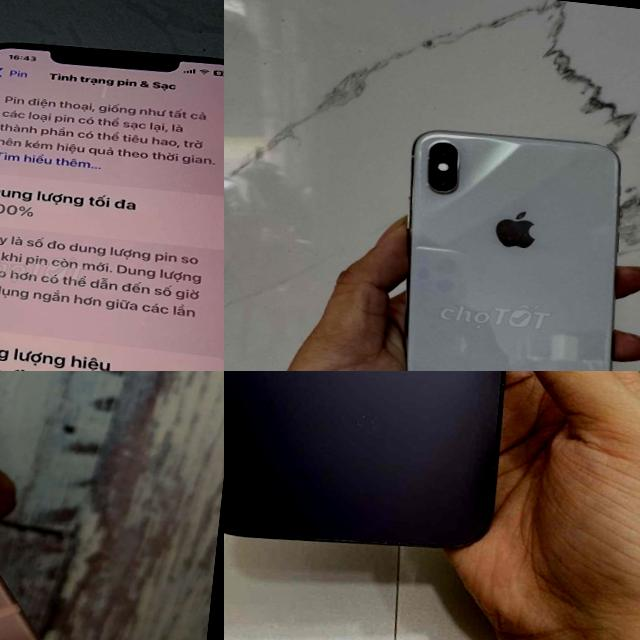gen_14: (224, 371, 553, 565)
gen_15: (0, 371, 139, 640)
gen_x_xs: (0, 30, 224, 371), (370, 114, 640, 371)
